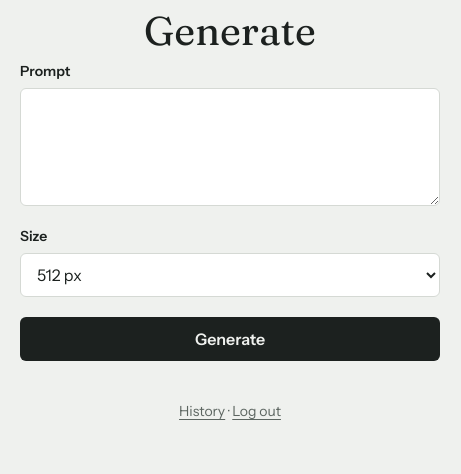
Scenario: submitting › refuses an empty prompt without sending anything
Step 1. Click the button "Generate" → (230, 339), box top-left (20, 317), bottom-right (440, 361)
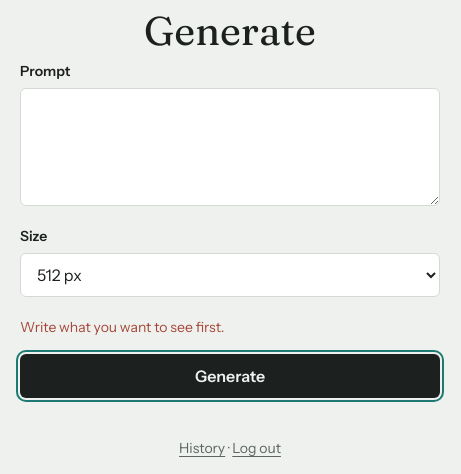
Expected: the message reads "Write what you want to see first.", top-left (20, 318), bottom-right (224, 336)
